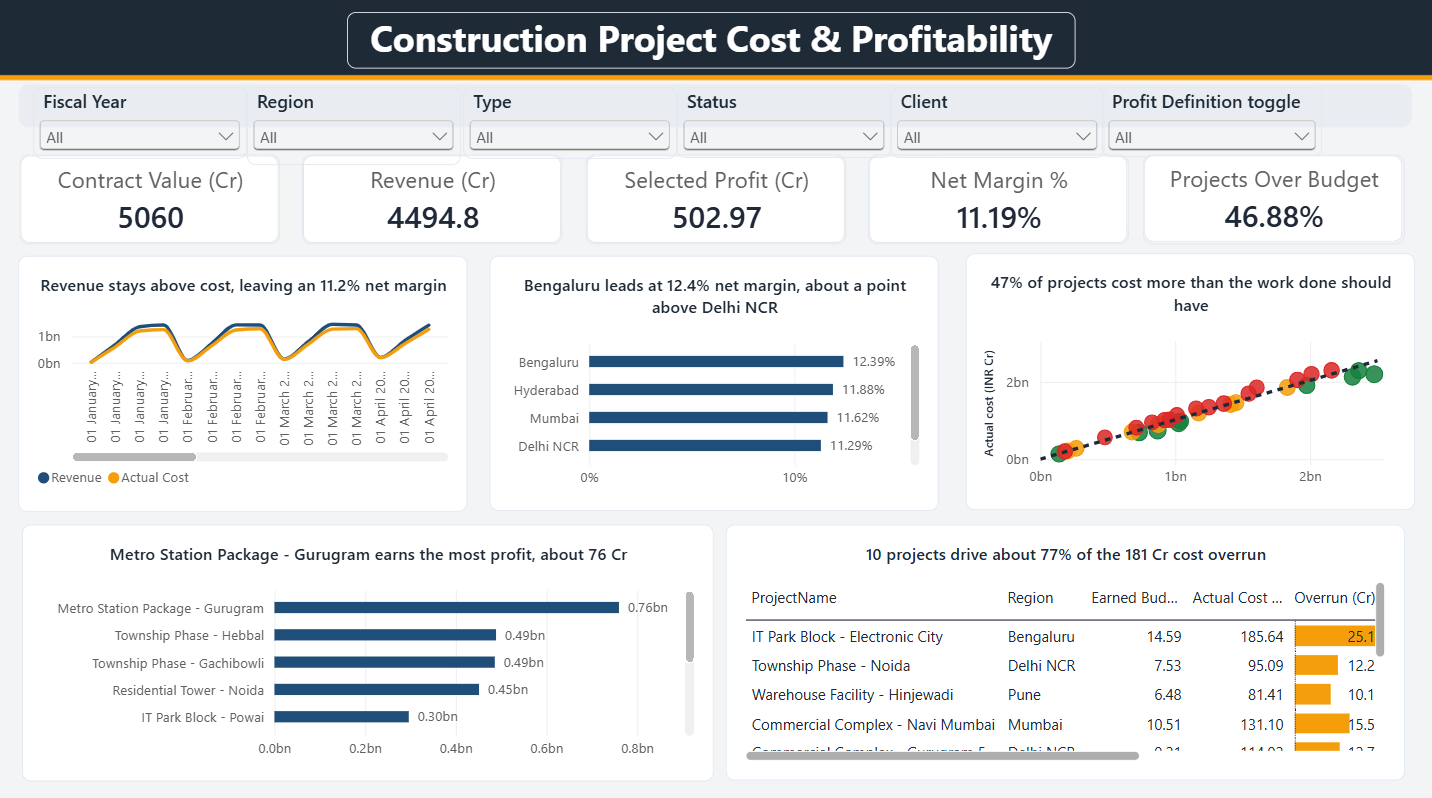

What the dashboard file says about the page in this screenshot:
{"tool":"powerbi","page":{"name":"Executive Overview","canvas":[1280,720],"ordinal":0},"visuals":[{"type":"cardVisual","fields":{"Data":["_Measures.Revenue (Cr)"]},"box":[272,140,232,80.3],"z":0},{"type":"cardVisual","fields":{"Data":["ProfitDef.Selected Profit"]},"box":[524,140,232,80],"z":1000},{"type":"cardVisual","fields":{"Data":["_Measures.Net Margin %"]},"box":[776,140,232,80],"z":2000},{"type":"textbox","box":[311.3,13.3,649.1,50.7],"z":3000},{"type":"cardVisual","fields":{"Data":["_Measures.Contract Value (Cr)"]},"box":[20,140,232,80.3],"z":4000},{"type":"slicer","fields":{"Values":["DimDate.FiscalYear"]},"box":[32.7,80,190,63.9],"z":5000},{"type":"slicer","fields":{"Values":["DimProject.ProjectType"]},"box":[414.9,80,190,63.9],"z":6000},{"type":"slicer","fields":{"Values":["DimProject.Region"]},"box":[223,80,190,69.9],"z":7000},{"type":"slicer","fields":{"Values":["DimProject.Status"]},"box":[605.2,80,190.3,63],"z":8000},{"type":"slicer","fields":{"Values":["DimProject.Client"]},"box":[795.5,80,190,63],"z":9000},{"type":"slicer","fields":{"Values":["ProfitDef.Definition"]},"box":[984.4,80.3,196.3,62.5],"z":10000},{"type":"barChart","title":"Bengaluru leads at 12.4% net margin, about a point above Delhi NCR","fields":{"Category":["DimProject.Region"],"Y":["_Measures.Net Margin %"]},"box":[438.7,230.1,400.1,227.2],"z":11000},{"type":"lineChart","title":"Revenue stays above cost, leaving an 11.2% net margin","fields":{"Category":["DimDate.YearMonth"],"Y":["_Measures.Revenue","_Measures.Actual Cost"]},"box":[19.3,230,400,228],"z":12000},{"type":"scatterChart","title":"47% of projects cost more than the work done should have","fields":{"Category":["DimProject.ProjectName"],"Size":["_Measures.Cost Performance Index"],"X":["_Measures.Earned Budget"],"Y":["_Measures.Actual Cost"]},"box":[863.1,228.6,400.1,228.6],"z":13000},{"type":"clusteredBarChart","title":"Metro Station Package - Gurugram earns the most profit, about 76 Cr","fields":{"Category":["DimProject.ProjectName"],"Y":["ProfitDef.Selected Profit"]},"box":[22.4,470.2,615.7,228.9],"z":14000},{"type":"tableEx","title":"10 projects drive about 77% of the 181 Cr cost overrun","fields":{"Values":["DimProject.ProjectName","DimProject.Region","_Measures.Earned Budget Cr","_Measures.Actual Cost (Cr)","_Measures.Overrun (Cr)","_Measures.Overrun %","_Measures.Cost Performance Index","_Measures.Budget Status"]},"box":[648.8,469.8,604.7,227.9],"z":15000},{"type":"cardVisual","fields":{"Data":["_Measures.Projects Over Budget %"]},"box":[1020.6,139.9,232.8,79.6],"z":16000}]}

Visuals, with their boxes in screenshot pixels (x1, y1, x2, y2), scaled from the page's 1280x720 canvas onto the 1432x798 screenshot:
cardVisual - _Measures.Revenue (Cr): Rect(304, 155, 564, 244)
cardVisual - ProfitDef.Selected Profit: Rect(586, 155, 846, 244)
cardVisual - _Measures.Net Margin %: Rect(868, 155, 1128, 244)
textbox: Rect(348, 15, 1074, 71)
cardVisual - _Measures.Contract Value (Cr): Rect(22, 155, 282, 244)
slicer - DimDate.FiscalYear: Rect(37, 89, 249, 159)
slicer - DimProject.ProjectType: Rect(464, 89, 677, 159)
slicer - DimProject.Region: Rect(249, 89, 462, 166)
slicer - DimProject.Status: Rect(677, 89, 890, 158)
slicer - DimProject.Client: Rect(890, 89, 1103, 158)
slicer - ProfitDef.Definition: Rect(1101, 89, 1321, 158)
"Bengaluru leads at 12.4% net margin, about a point above Delhi NCR" barChart: Rect(491, 255, 938, 507)
"Revenue stays above cost, leaving an 11.2% net margin" lineChart: Rect(22, 255, 469, 508)
"47% of projects cost more than the work done should have" scatterChart: Rect(966, 253, 1413, 507)
"Metro Station Package - Gurugram earns the most profit, about 76 Cr" clusteredBarChart: Rect(25, 521, 714, 775)
"10 projects drive about 77% of the 181 Cr cost overrun" tableEx: Rect(726, 521, 1402, 773)
cardVisual - _Measures.Projects Over Budget %: Rect(1142, 155, 1402, 243)
